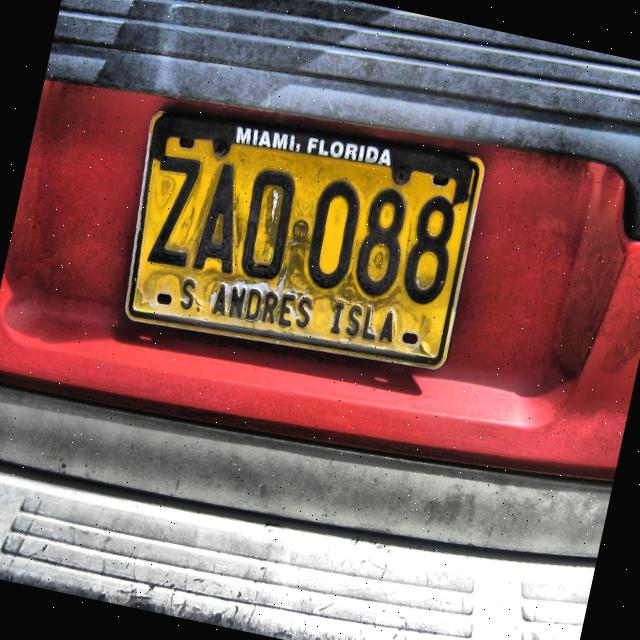0: (298, 172, 369, 295)
8: (394, 188, 466, 312), (347, 180, 416, 302)
A: (190, 156, 256, 280)
O: (233, 163, 303, 285)
Z: (143, 151, 211, 271)
